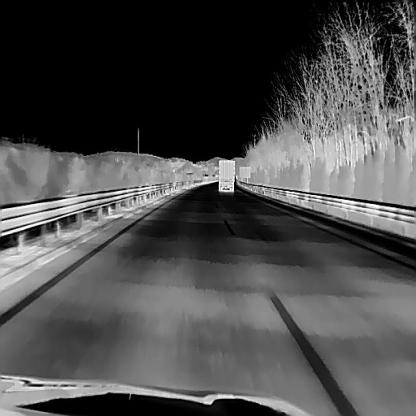truck: (218, 158, 235, 191)
